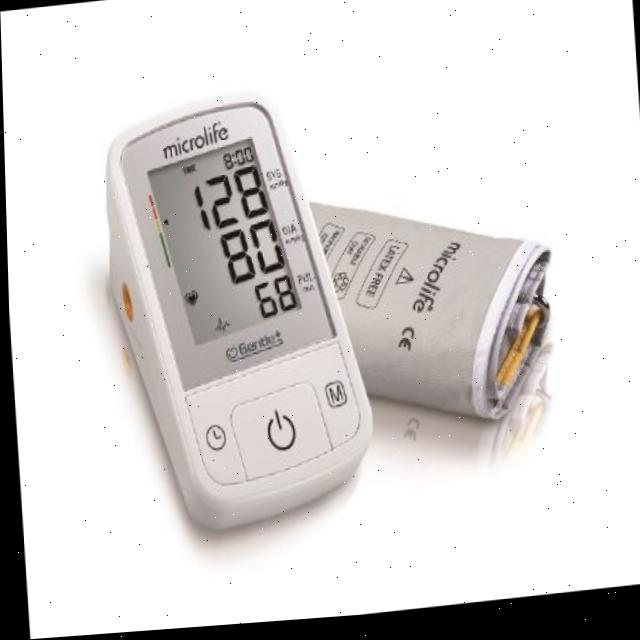dia: (210, 213, 292, 293)
pul: (249, 275, 301, 327)
ssd: (144, 140, 302, 350)
sys: (182, 159, 272, 235)
